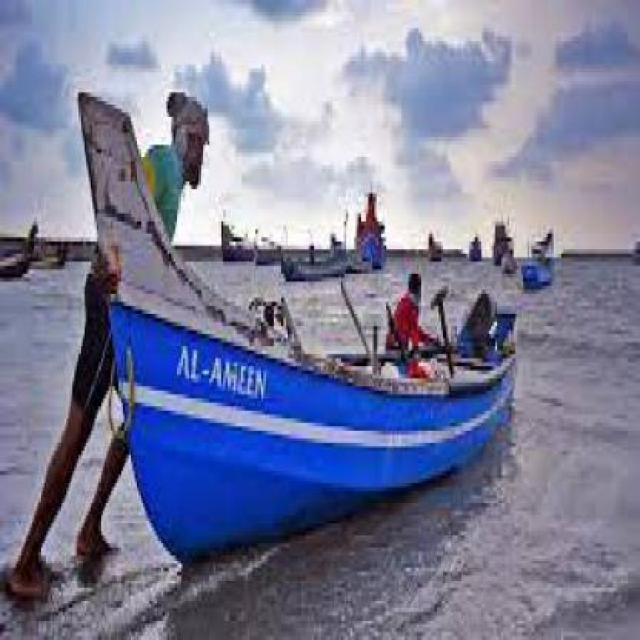fish-b: (62, 70, 533, 573)
